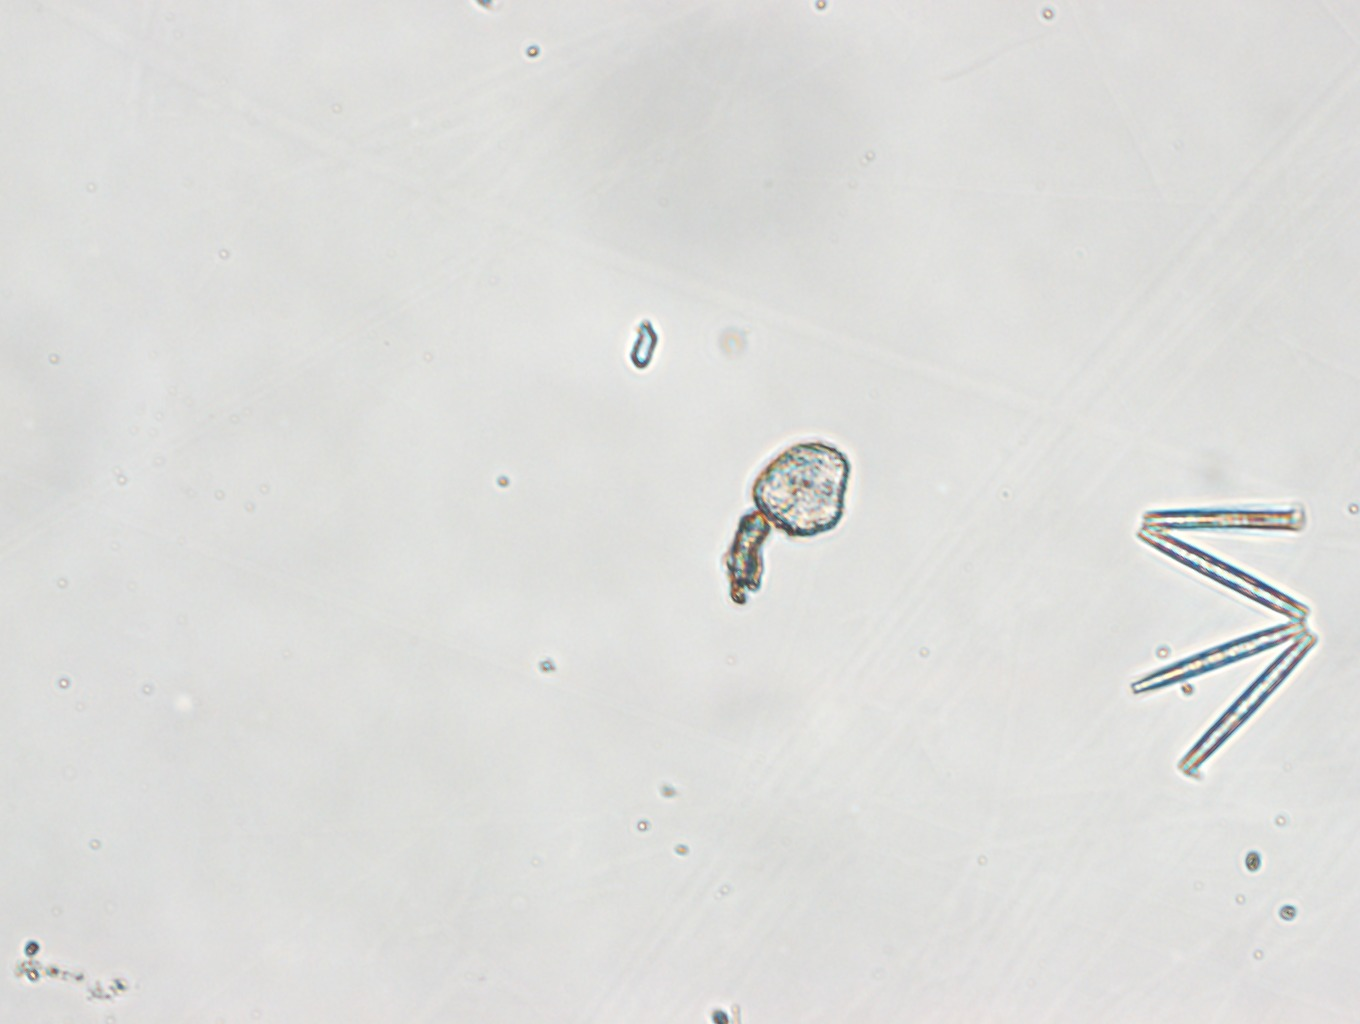thalassionema nitzschioides: (1121, 503, 1320, 784)
